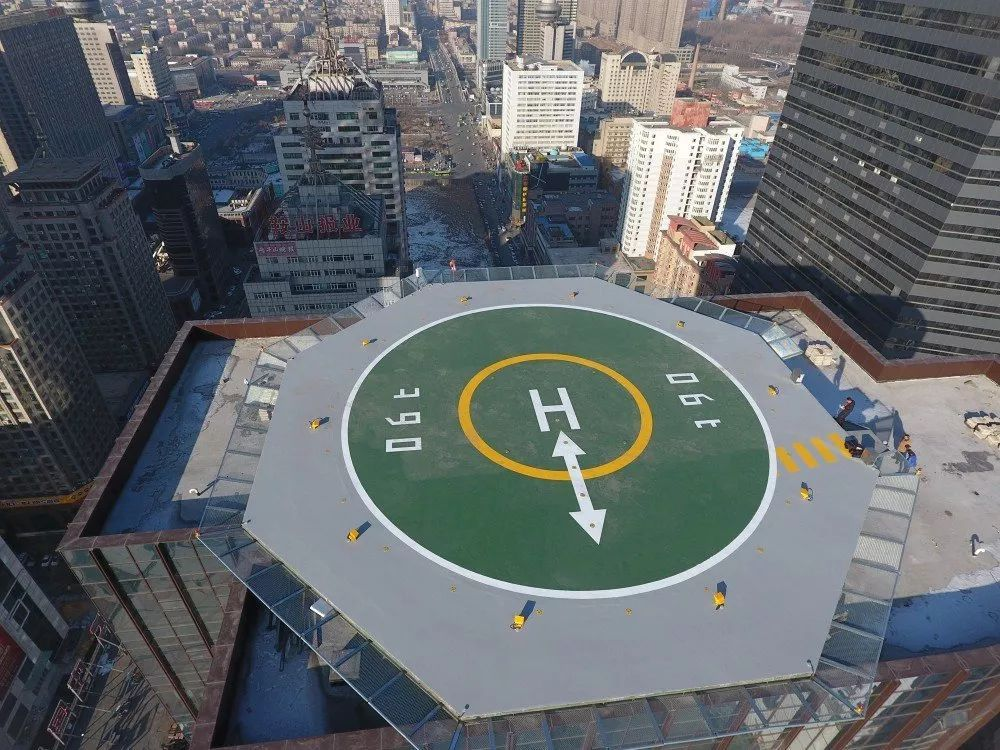Apron: (458, 351, 655, 482)
